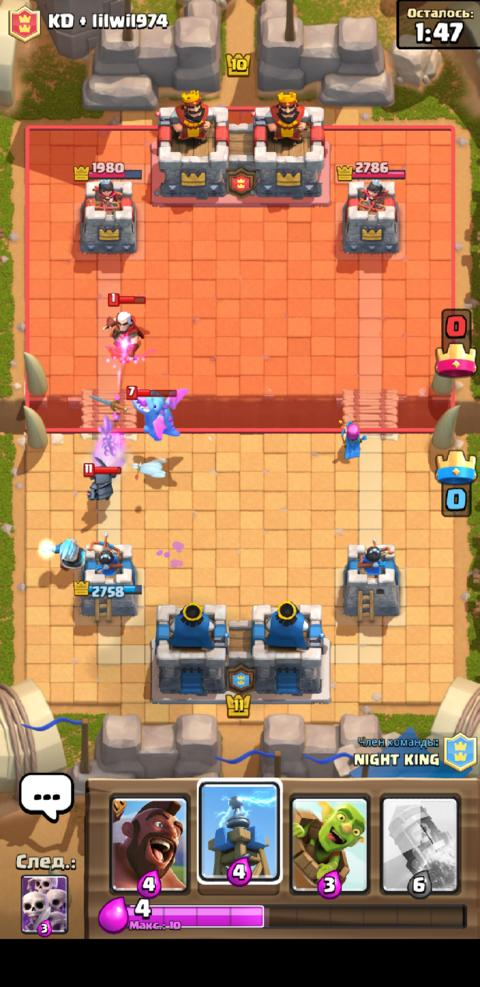ally_archer: (337, 417, 367, 460)
ally_ice_wizard: (36, 533, 86, 572)
enemy_baby_dragon: (123, 383, 189, 442)
enemy_magic_archer: (98, 291, 152, 364)
enemy_mini_pekka: (81, 455, 121, 502)
